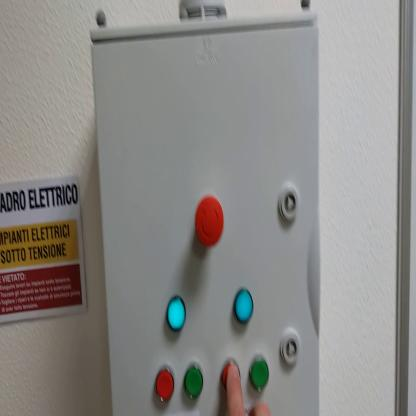hand: (225, 358, 271, 414)
left green button: (185, 367, 205, 402)
left red button: (156, 368, 175, 404)
right green button: (251, 357, 270, 391)
right red button: (221, 353, 240, 389)
